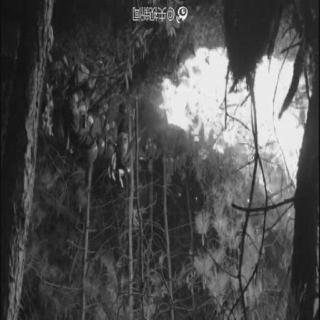Fire: (161, 47, 307, 193)
other: (69, 51, 130, 162), (131, 137, 215, 191)
